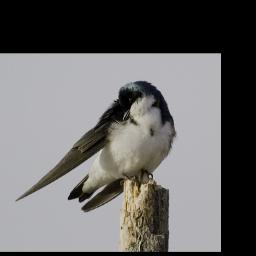Swallow: (15, 79, 178, 214)
